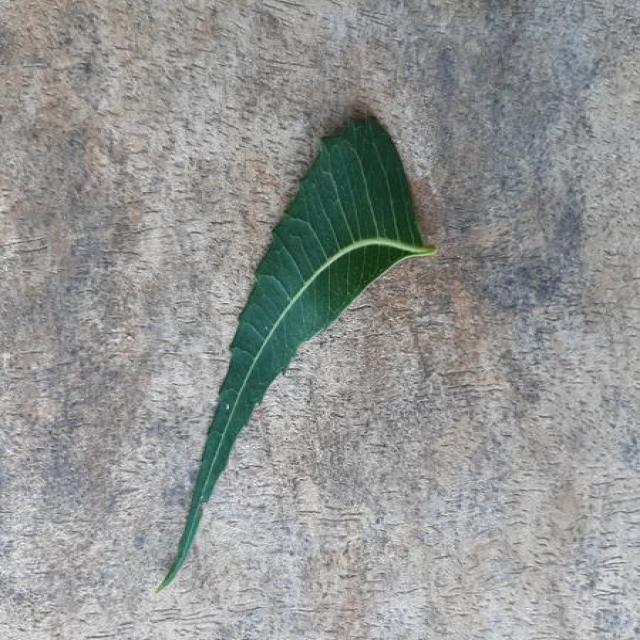neem: (160, 118, 435, 589)
